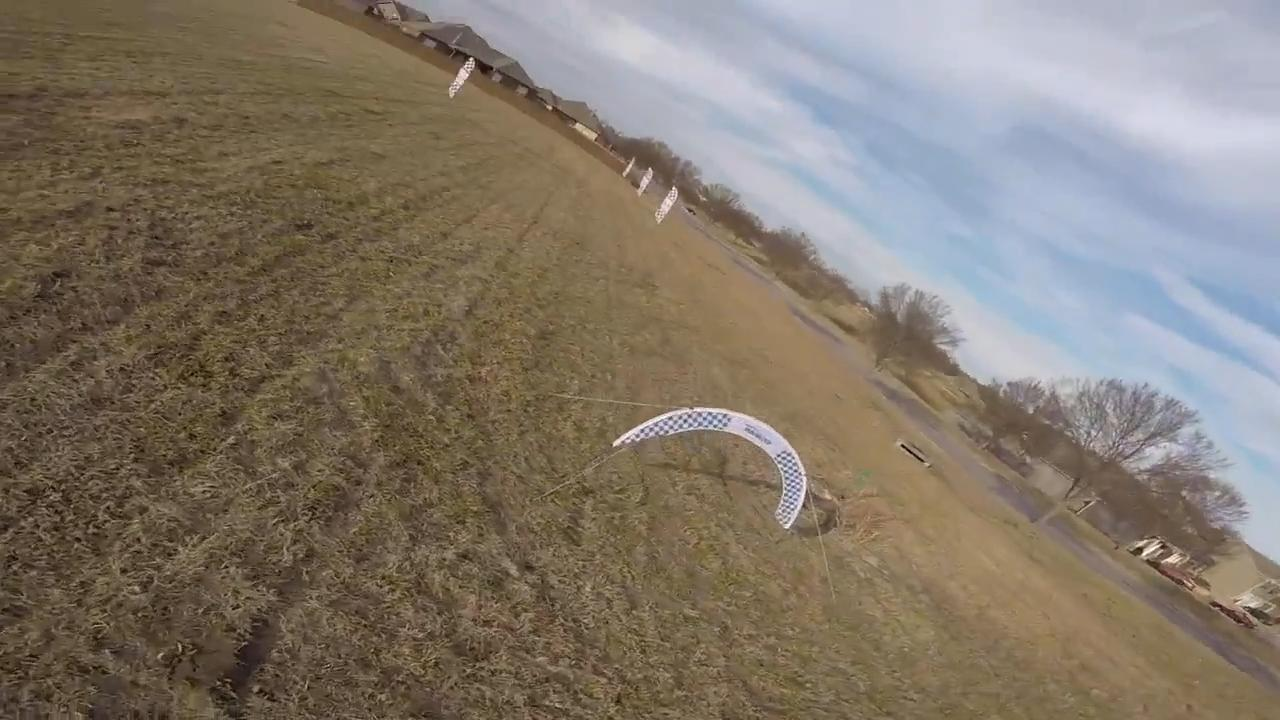gate: (608, 403, 810, 533)
